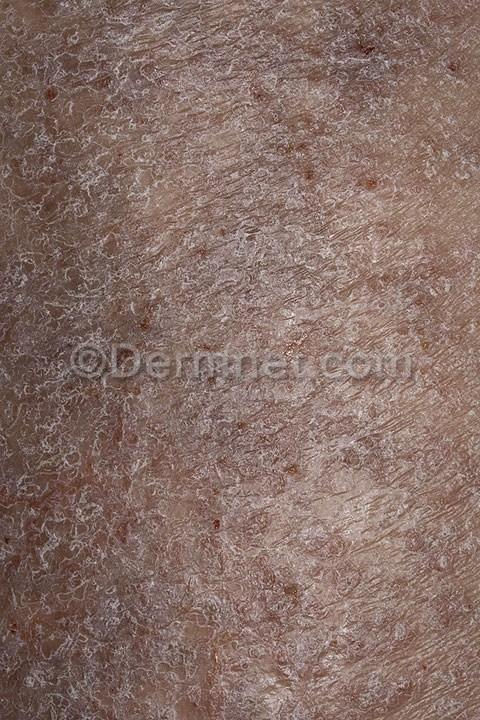Eczema: (69, 64, 381, 330), (31, 435, 366, 637)
